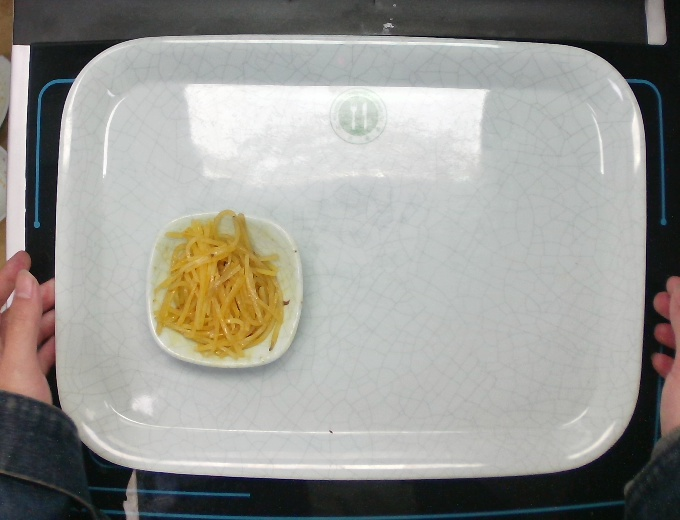JYsf-Si_Fang_Die: (142, 208, 307, 373)
